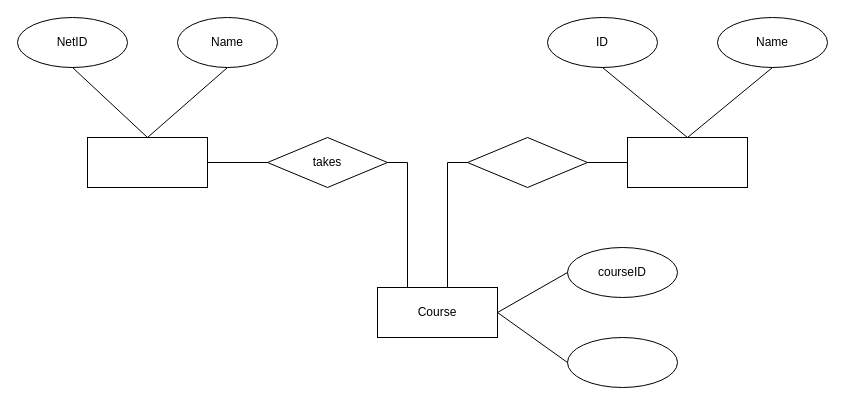
Some shapes in this 845 by 405 pixel diagram are drawn without their labels. Each missing label, with the centre of its shape:
Instructor: (x=687, y=162)
Student: (x=147, y=162)
teaches: (x=527, y=162)
Title: (x=622, y=362)
